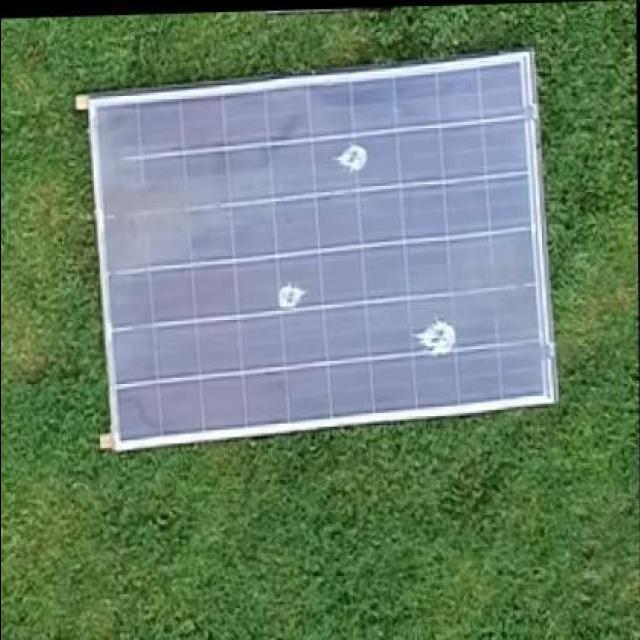soiled: (72, 54, 554, 446)
